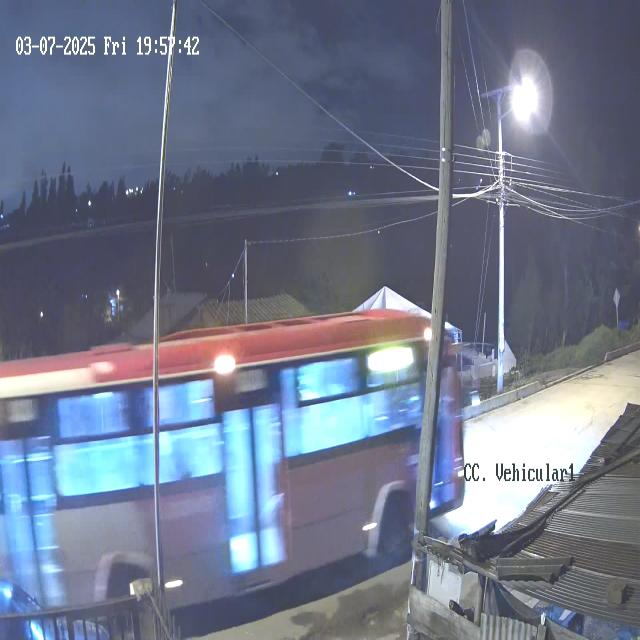BUS: (0, 306, 467, 622)
